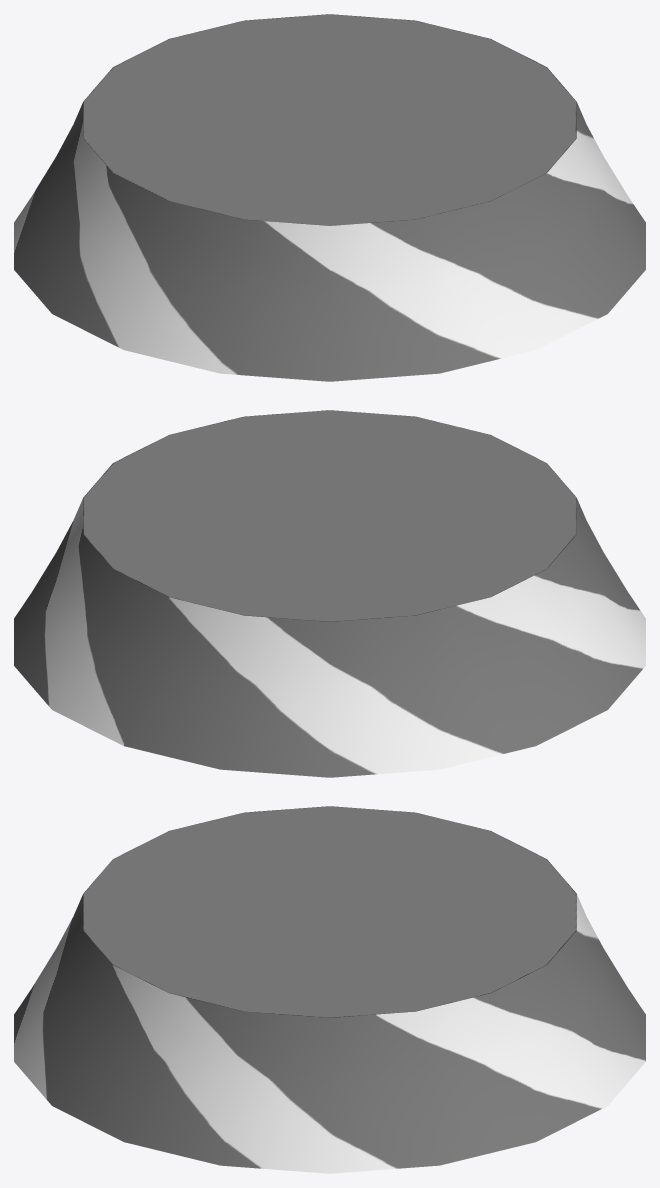
Rendered from Podium.fbx.
3 renders of one model, top to bottom at view 1: azimuth 30°, elevation 25°; view 2: azimuth 150°, elevation 25°; view 3: azimuth 270°, elevation 25°, orthographic.
Visible parts, largest first — view 1: Cylinder001; view 2: Cylinder001; view 3: Cylinder001.
Boxes of the visible parts, x1,y1,x2,y2 form: Cylinder001: [14, 14, 645, 381]; Cylinder001: [14, 410, 645, 777]; Cylinder001: [14, 806, 645, 1173].
Size of the model in its own units: 65.78 by 14.27 by 64.78.
